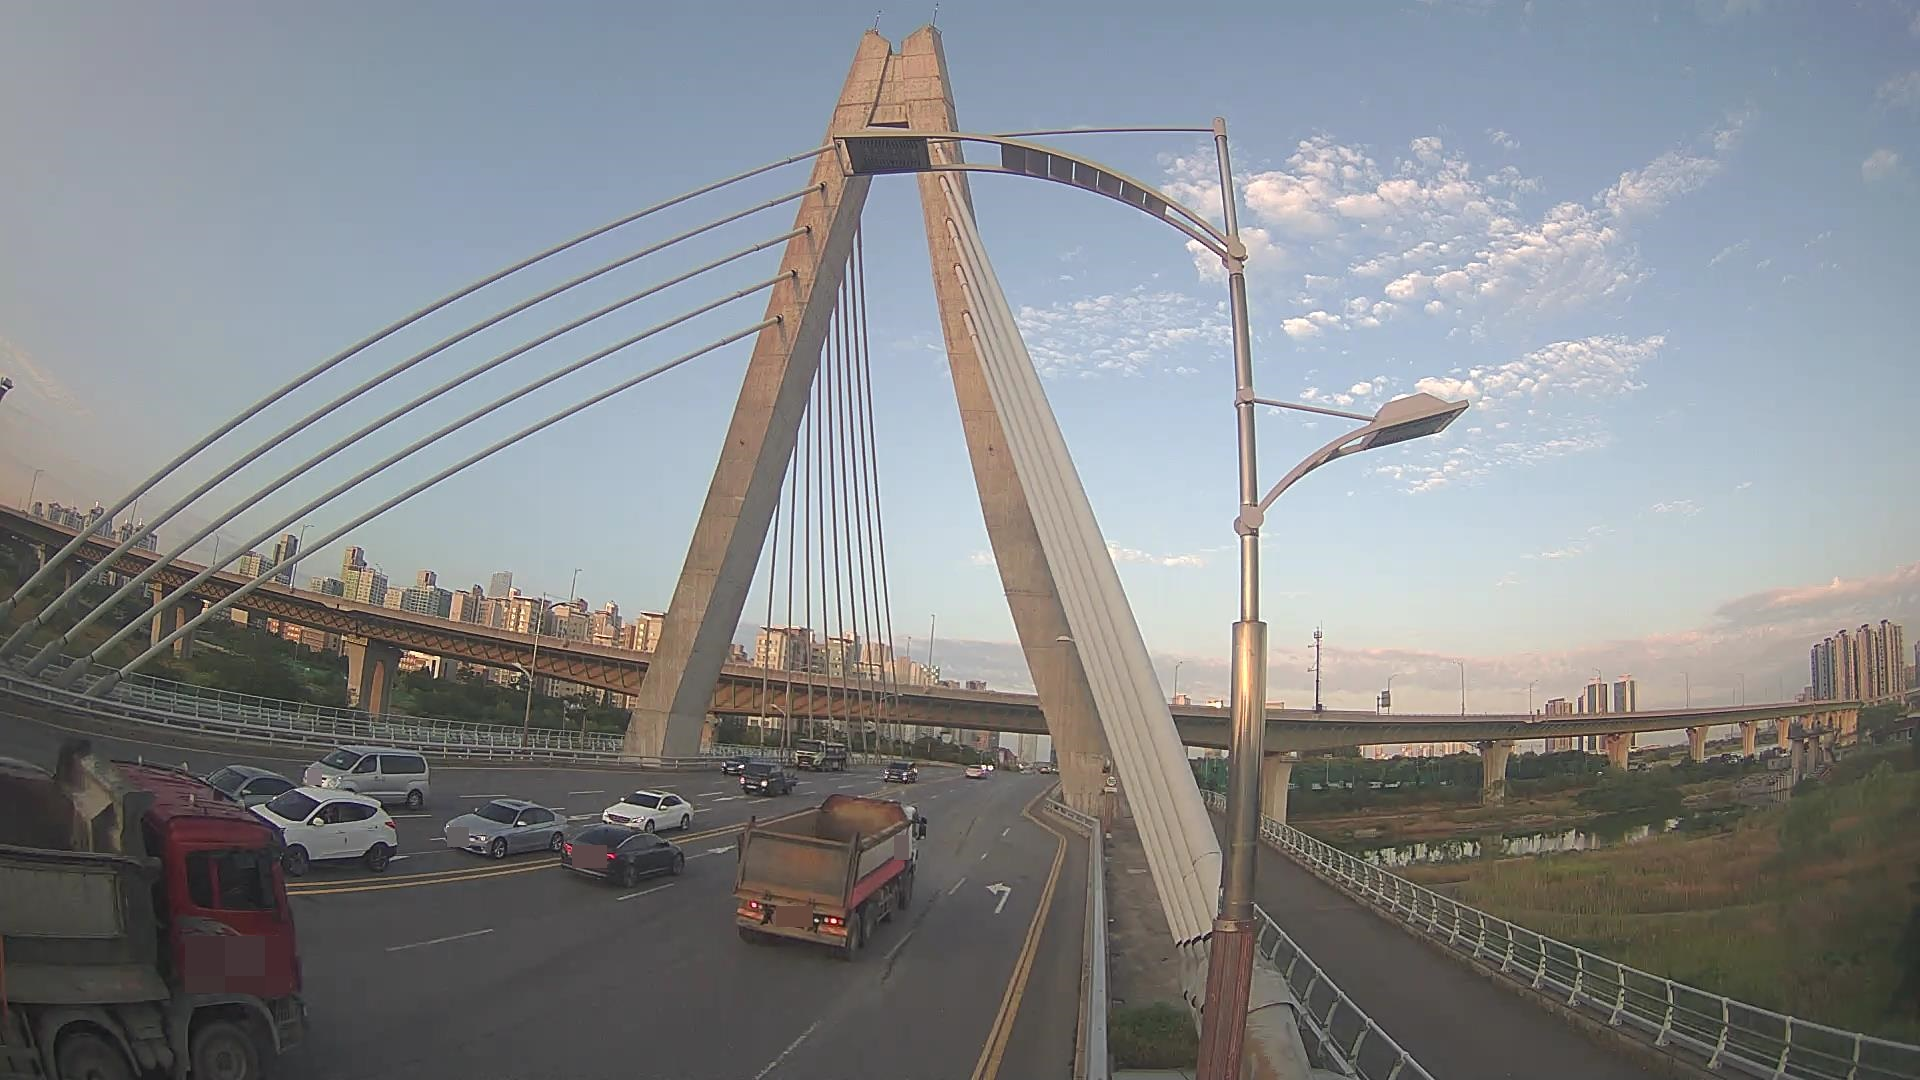정상차량: (731, 794, 928, 963)
